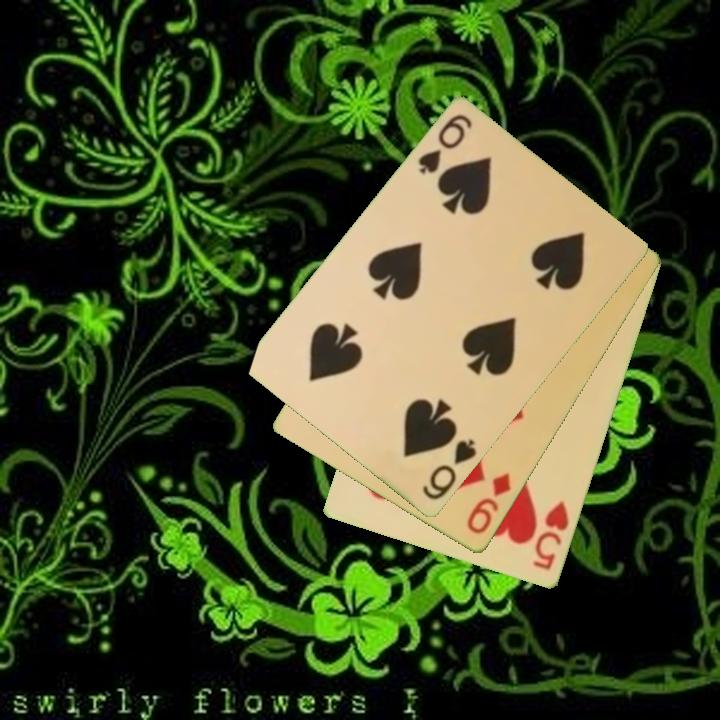5h: (529, 497, 573, 573)
6s: (419, 436, 480, 504), (414, 111, 475, 178)
9d: (463, 469, 514, 538)
